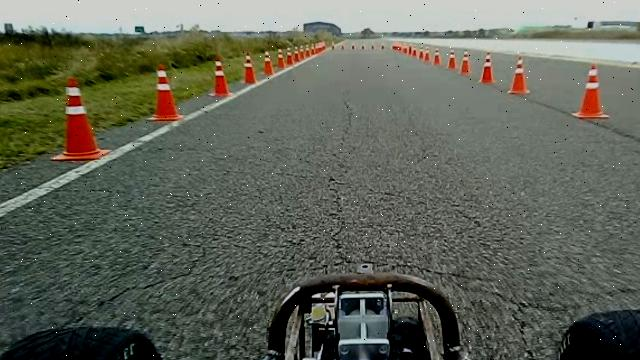red cone: (50, 76, 111, 161), (146, 63, 184, 121), (571, 62, 610, 118), (208, 58, 233, 98), (507, 54, 530, 94), (479, 51, 494, 83), (242, 52, 256, 84), (262, 50, 275, 75), (459, 50, 470, 75), (446, 49, 457, 70), (276, 48, 286, 69), (432, 48, 441, 66)
